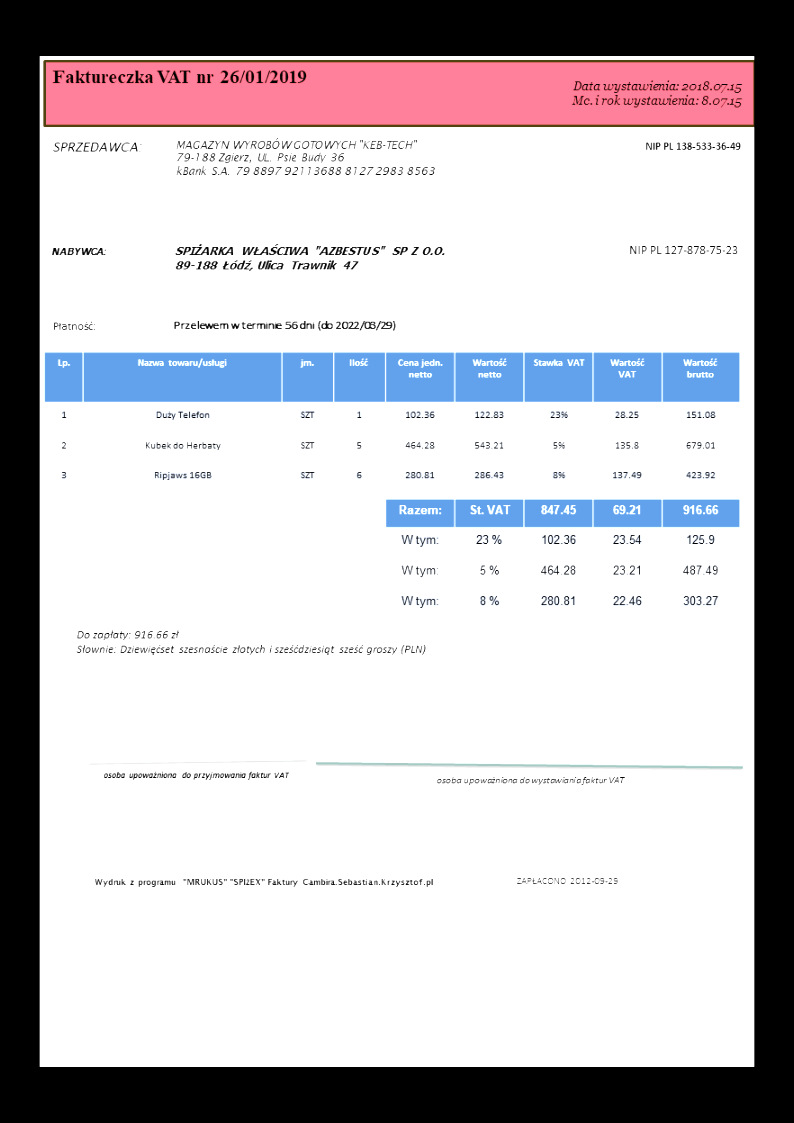Table: (42, 351, 742, 495), (385, 498, 741, 621)
TextBox: (173, 137, 437, 179), (74, 629, 428, 657), (173, 241, 448, 273), (92, 873, 436, 890), (51, 65, 309, 87), (570, 78, 744, 110), (171, 318, 396, 333), (432, 773, 626, 787), (101, 768, 292, 782), (625, 241, 737, 258), (514, 873, 619, 888), (642, 138, 743, 153), (50, 139, 142, 155), (49, 243, 106, 259), (51, 318, 98, 333)
